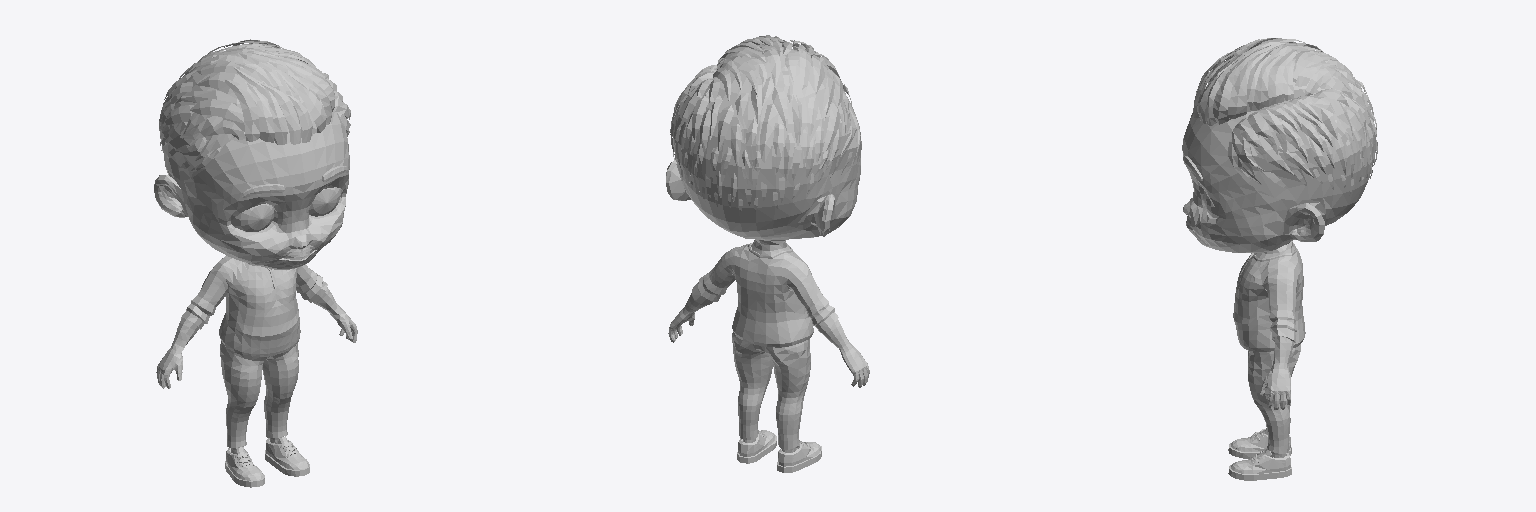
Rendered from characters_m1.obj.
3 views of the same model, side by side, from view 1: azimuth 30°, elevation 25°; view 2: azimuth 150°, elevation 25°; view 3: azimuth 270°, elevation 25° (orthographic).
Visible parts, largest first — view 1: characters_m1_02_Mesh.002, hair_m1_02_Cylinder.007, cloth_1_04_Mesh.008; view 2: hair_m1_02_Cylinder.007, cloth_1_04_Mesh.008, characters_m1_02_Mesh.002; view 3: hair_m1_02_Cylinder.007, characters_m1_02_Mesh.002, cloth_1_04_Mesh.008.
Part boxes in pixels (left/top/right/bottom): characters_m1_02_Mesh.002: left=154, top=110, right=357, bottom=388; hair_m1_02_Cylinder.007: left=159, top=39, right=350, bottom=197; cloth_1_04_Mesh.008: left=181, top=256, right=327, bottom=487; hair_m1_02_Cylinder.007: left=670, top=35, right=860, bottom=235; cloth_1_04_Mesh.008: left=692, top=243, right=838, bottom=472; characters_m1_02_Mesh.002: left=666, top=112, right=869, bottom=387; hair_m1_02_Cylinder.007: left=1183, top=38, right=1377, bottom=224; characters_m1_02_Mesh.002: left=1182, top=111, right=1326, bottom=409; cloth_1_04_Mesh.008: left=1228, top=243, right=1305, bottom=480.
Size of the model in its own units: 0.402 by 0.8183 by 0.35.